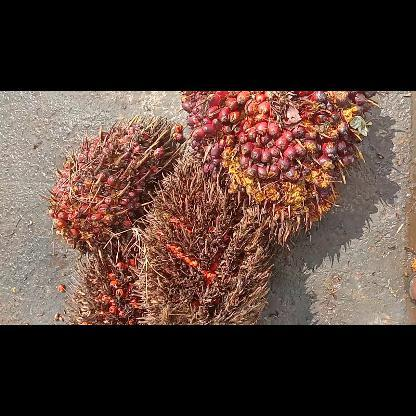TBS masak: (181, 91, 377, 249), (47, 113, 186, 263)
Terlalu masak: (128, 152, 274, 324), (62, 238, 146, 324)
